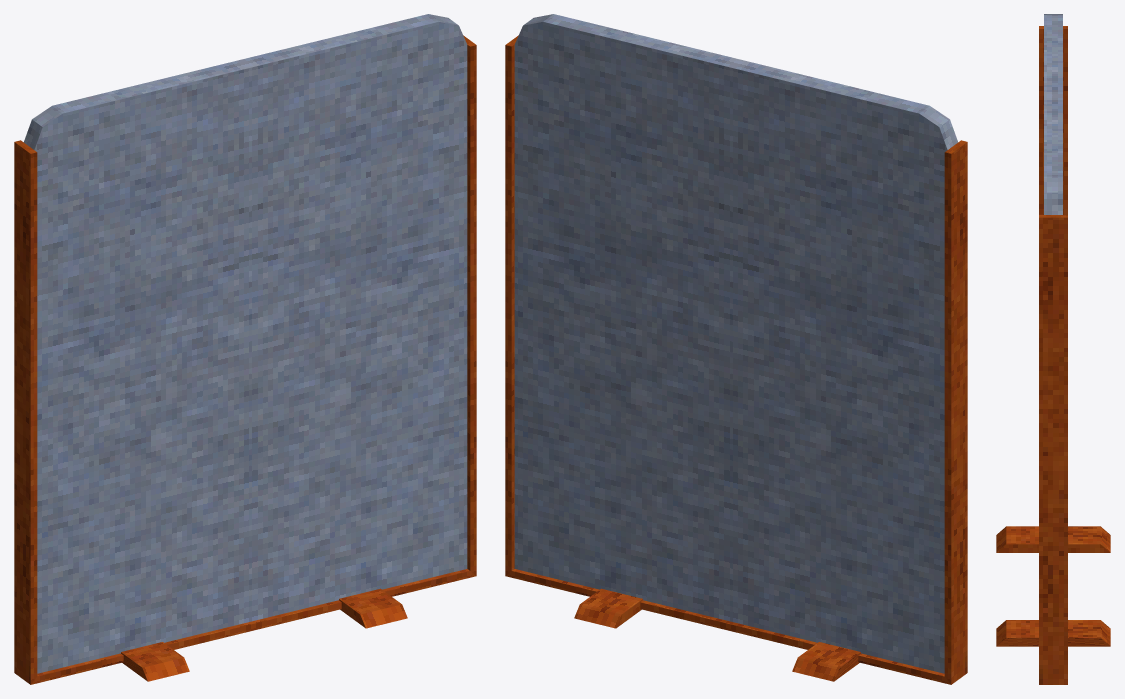
File: divider_veneer_blue_half.glb
The picture shows the model from 3 angles, left to right: view 1: azimuth 30°, elevation 25°; view 2: azimuth 150°, elevation 25°; view 3: azimuth 270°, elevation 25°; orthographic projection. The views are drawn at different scales.
Parts seen in each view (by area): view 1: divider_veneer_blue_half; view 2: divider_veneer_blue_half; view 3: divider_veneer_blue_half.
Part boxes in pixels (x1,y1,x2,y2): divider_veneer_blue_half: (14, 14, 476, 684); divider_veneer_blue_half: (505, 14, 967, 684); divider_veneer_blue_half: (996, 14, 1110, 684).
Size of the model in its own units: 2.07 by 2.5 by 0.523.
Materials: 1 (1 with a texture image).
